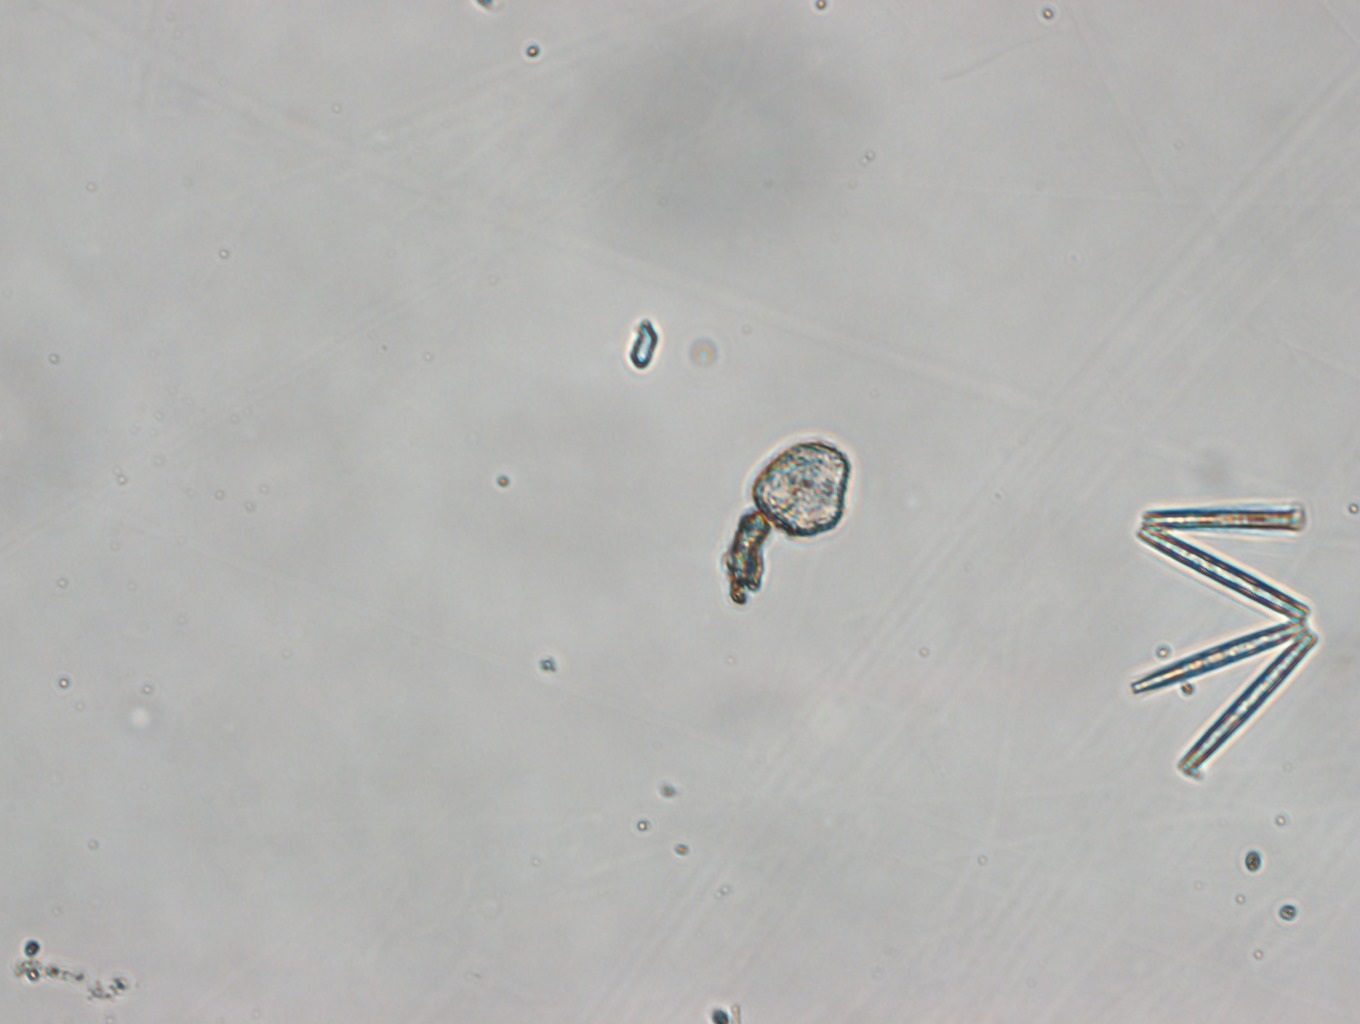thalassionema nitzschioides: (1123, 502, 1323, 783)
